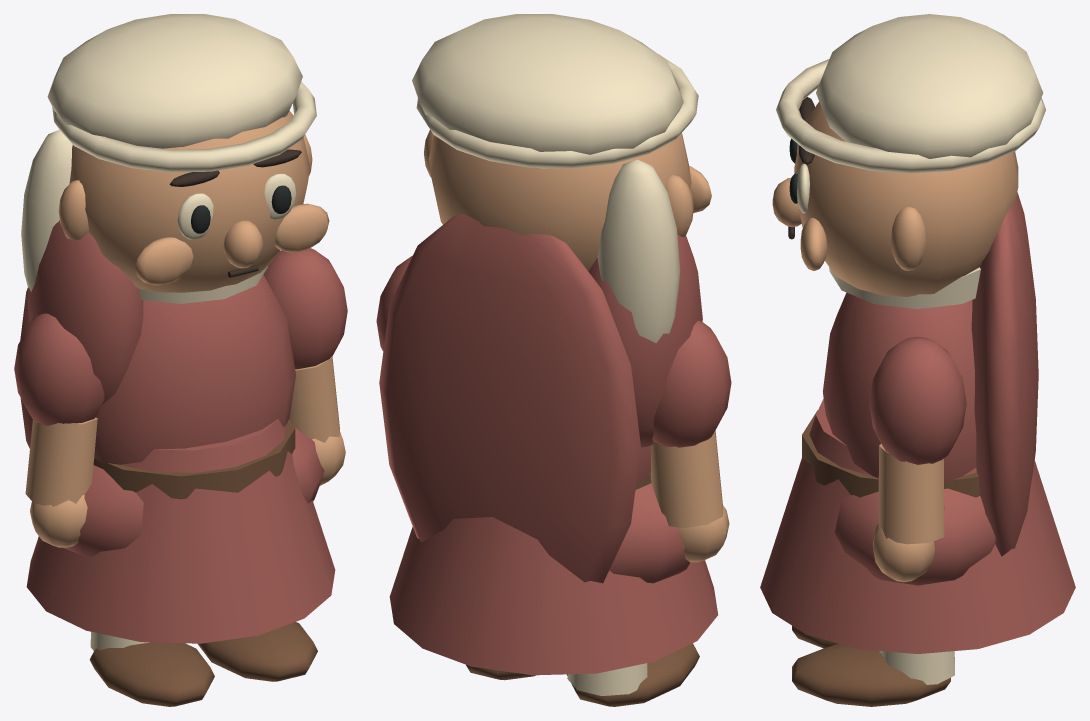
The model's file is character_sarai.glb.
3 views of the same model, side by side, from view 1: azimuth 30°, elevation 25°; view 2: azimuth 150°, elevation 25°; view 3: azimuth 270°, elevation 25° (orthographic). The views are drawn at different scales.
Visible parts, largest first — view 1: batch_sarai_0, batch_sarai_1, batch_sarai_2, batch_arm_left_1, batch_arm_left_0, batch_arm_right_0, batch_leg_left_1, batch_leg_right_1, batch_sarai_5, batch_arm_right_1, batch_sarai_4, batch_sarai_3 (+1 smaller); view 2: batch_sarai_0, batch_sarai_1, batch_sarai_2, batch_arm_left_1, batch_arm_left_0, batch_leg_left_1, batch_leg_left_0, batch_arm_right_0; view 3: batch_sarai_0, batch_sarai_1, batch_sarai_2, batch_arm_right_0, batch_arm_right_1, batch_leg_right_1, batch_sarai_5, batch_leg_right_0, batch_sarai_4.
Boxes of the visible parts, x1=… form: batch_sarai_0: x1=20, y1=220, x2=335, y2=643; batch_sarai_1: x1=21, y1=14, x2=316, y2=303; batch_sarai_2: x1=58, y1=110, x2=329, y2=292; batch_arm_left_1: x1=25, y1=417, x2=97, y2=547; batch_arm_left_0: x1=14, y1=313, x2=104, y2=425; batch_arm_right_0: x1=263, y1=248, x2=347, y2=369; batch_leg_left_1: x1=89, y1=642, x2=214, y2=706; batch_leg_right_1: x1=197, y1=622, x2=317, y2=681; batch_sarai_5: x1=93, y1=419, x2=295, y2=499; batch_arm_right_1: x1=289, y1=356, x2=345, y2=485; batch_sarai_4: x1=169, y1=149, x2=301, y2=277; batch_sarai_3: x1=191, y1=185, x2=291, y2=233; batch_sarai_0: x1=379, y1=214, x2=718, y2=675; batch_sarai_1: x1=412, y1=14, x2=698, y2=342; batch_sarai_2: x1=424, y1=129, x2=711, y2=271; batch_arm_left_1: x1=650, y1=430, x2=729, y2=562; batch_arm_left_0: x1=652, y1=320, x2=731, y2=447; batch_leg_left_1: x1=566, y1=643, x2=699, y2=706; batch_leg_left_0: x1=567, y1=663, x2=647, y2=695; batch_arm_right_0: x1=376, y1=256, x2=412, y2=350; batch_sarai_0: x1=760, y1=192, x2=1075, y2=653; batch_sarai_1: x1=776, y1=14, x2=1045, y2=308; batch_sarai_2: x1=772, y1=101, x2=1018, y2=296; batch_arm_right_0: x1=869, y1=336, x2=966, y2=464; batch_arm_right_1: x1=873, y1=444, x2=944, y2=582; batch_leg_right_1: x1=792, y1=644, x2=950, y2=706; batch_sarai_5: x1=802, y1=410, x2=980, y2=497; batch_leg_right_0: x1=879, y1=651, x2=954, y2=684; batch_sarai_4: x1=788, y1=97, x2=814, y2=239.
Bounding box in the file's own units: 0.81 × 1.5 × 0.68.
